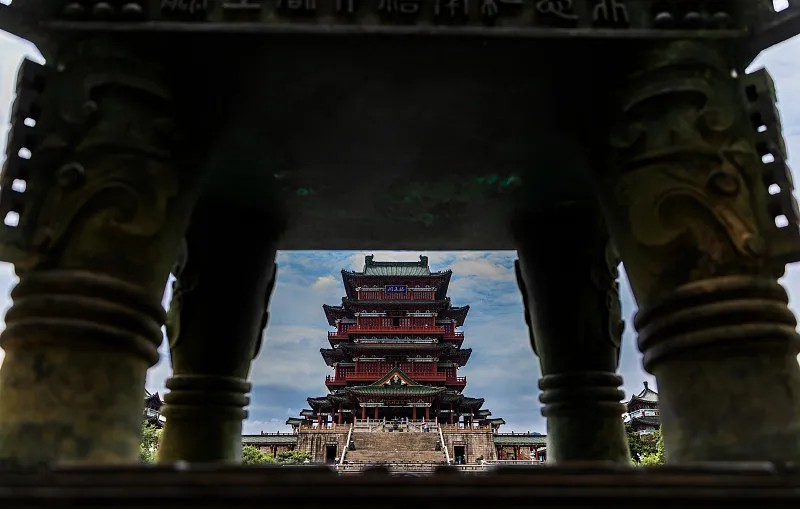Teng: (287, 255, 505, 428)
